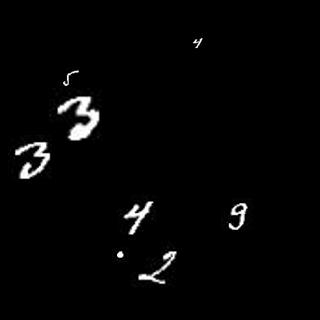dot: (107, 248, 124, 261)
five: (60, 66, 81, 88)
four: (120, 199, 153, 236), (190, 35, 207, 51)
nine: (225, 203, 248, 232)
three: (54, 94, 104, 144), (13, 141, 54, 184)
two: (136, 250, 179, 286)
